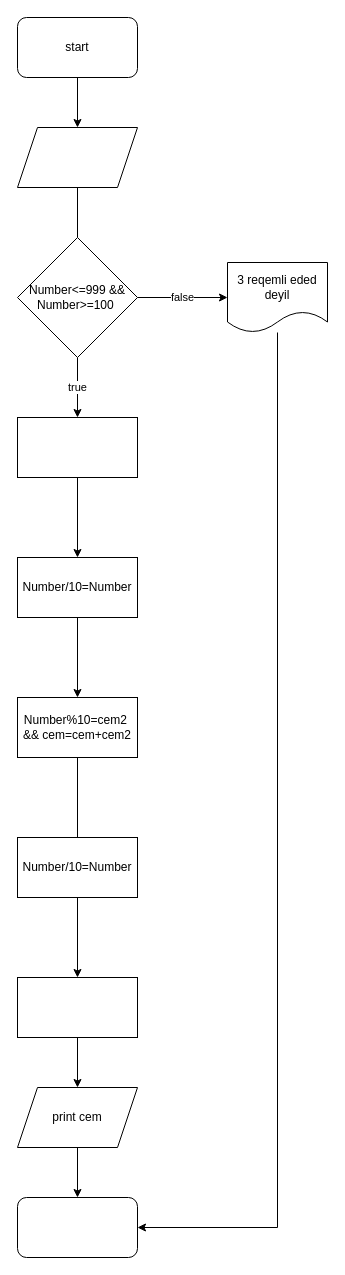
This 345x1275 diagram has some shape labels left out. The shapes that lost their labels are listed below. From the top down, each one's centre as x and y in pixels, then its label:
At (x=77, y=157): "Number, cem=0".
At (x=77, y=447): "Number%10=cem1 && cem=cem+cem1".
At (x=77, y=1007): "Number%10=cem3 && cem=cem+cem3".
At (x=77, y=1227): "end".
